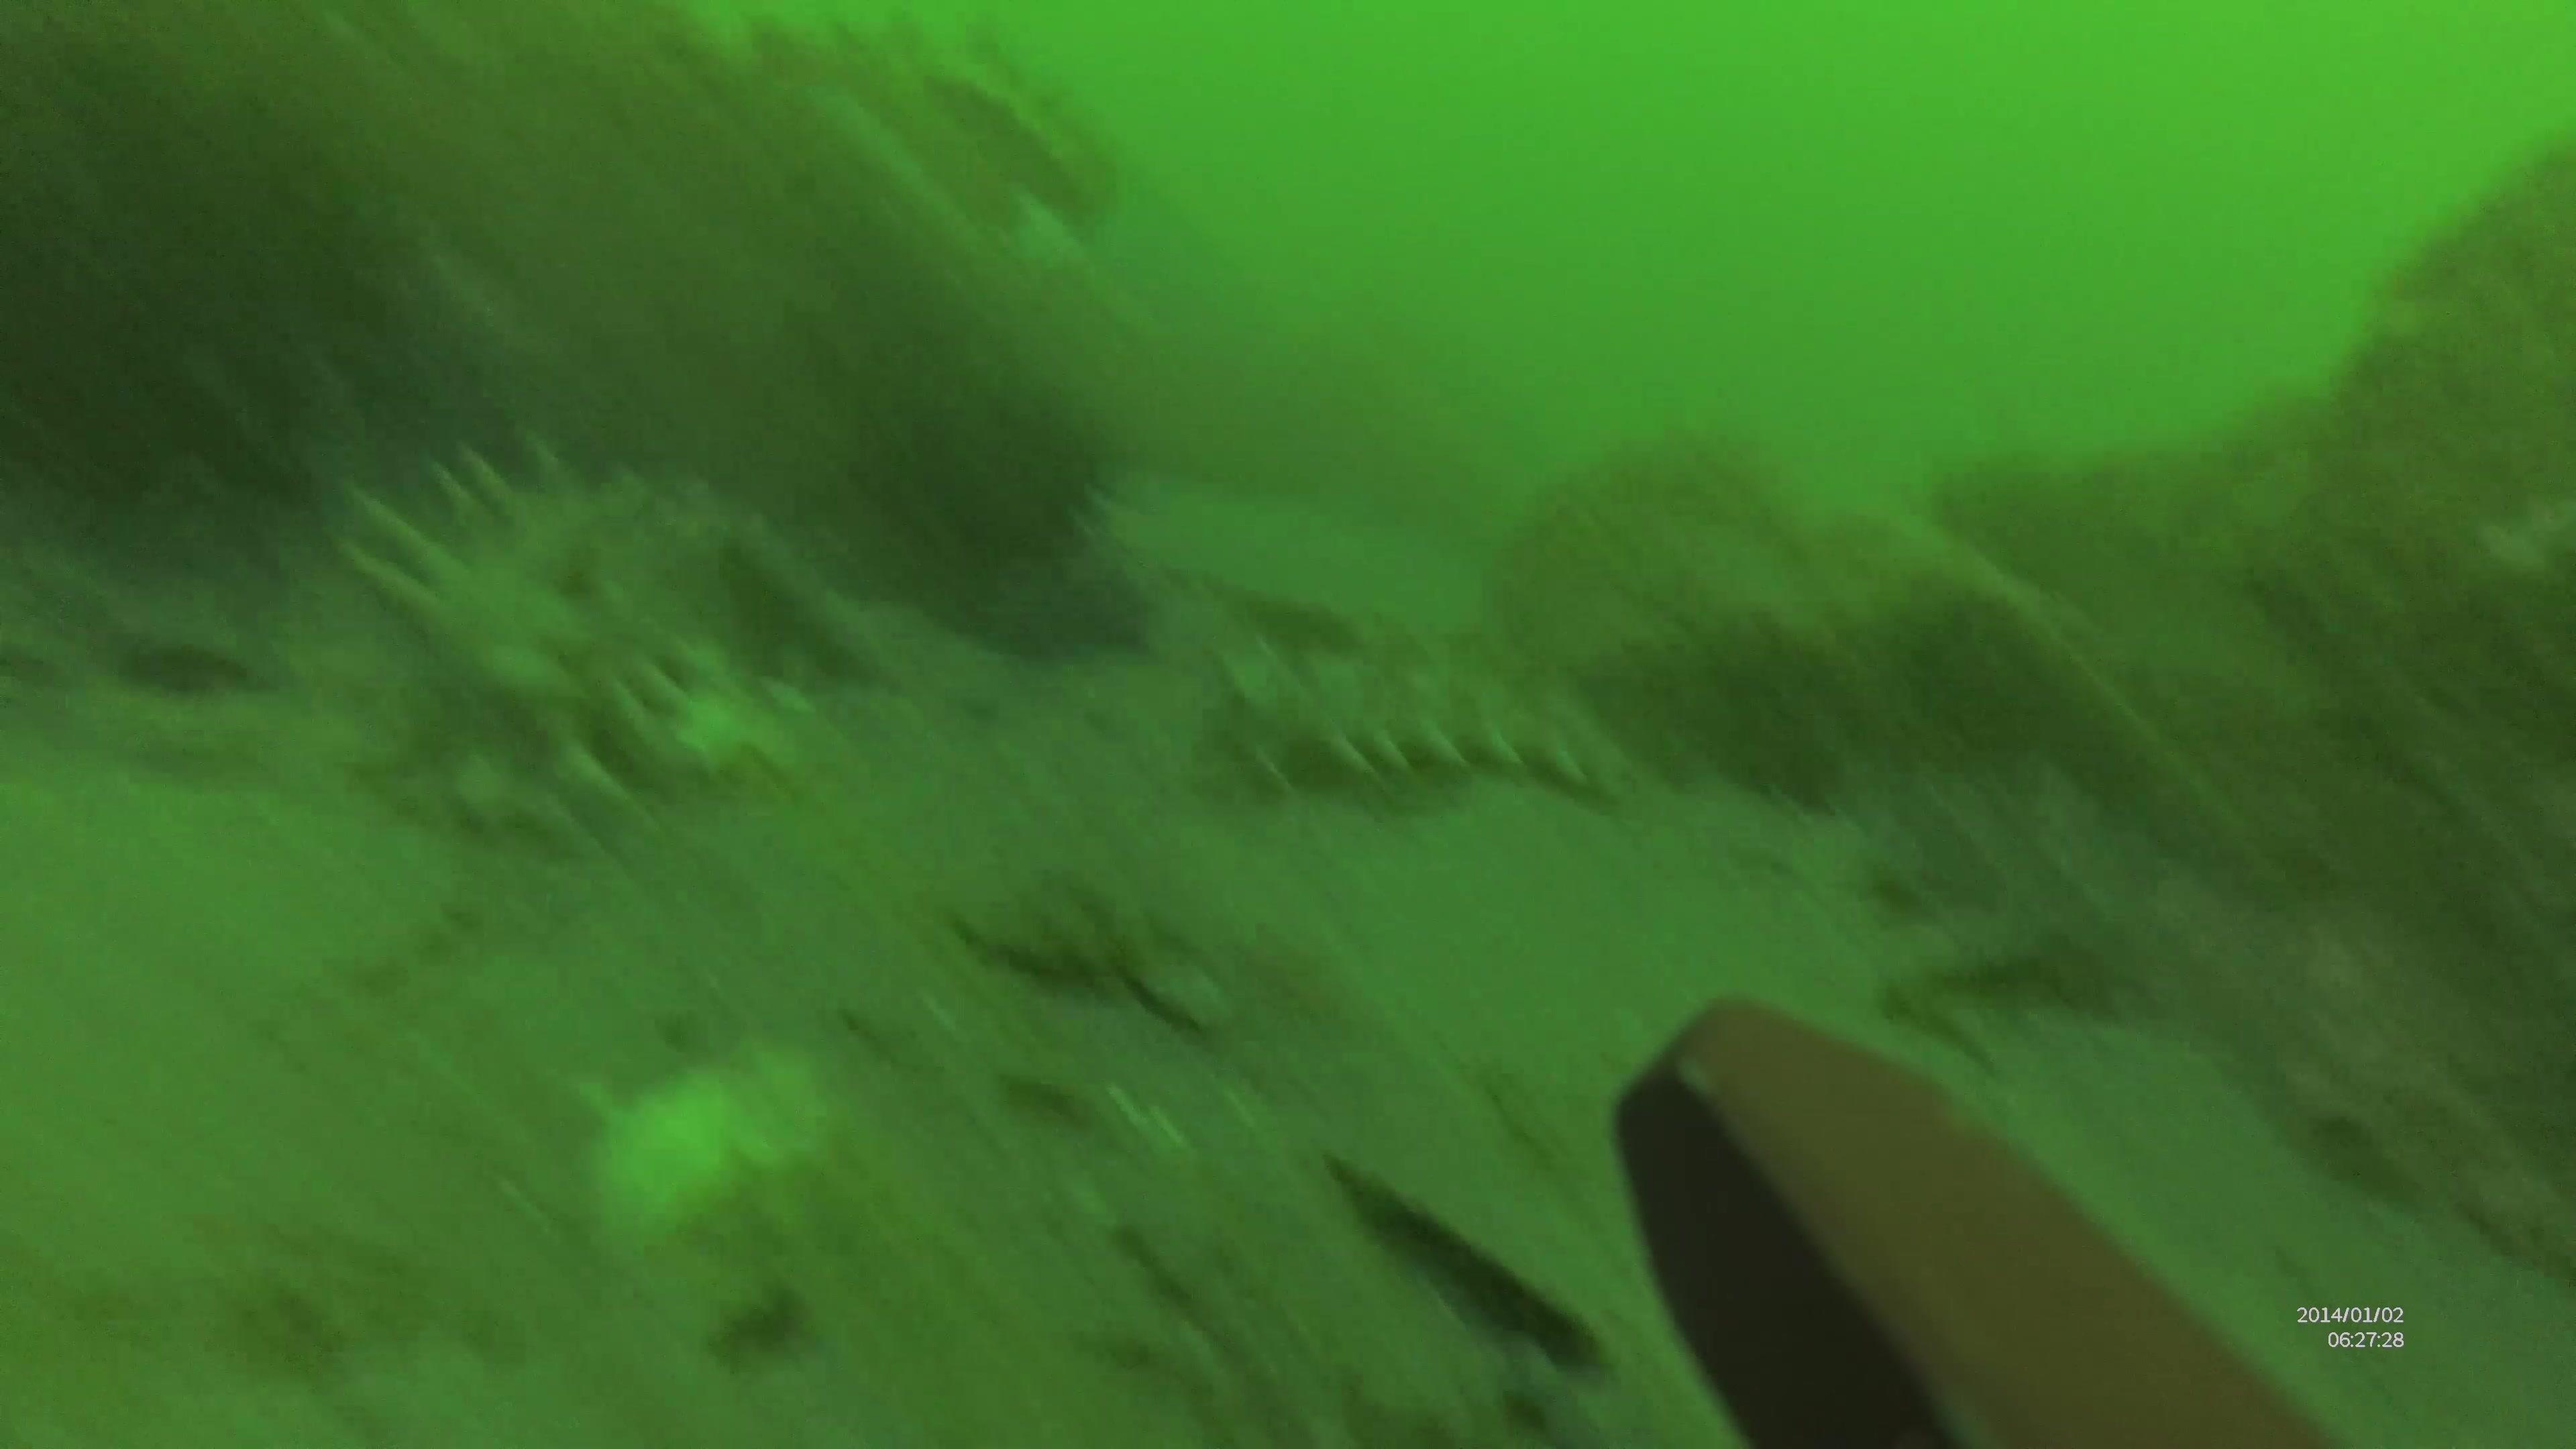echinus: (925, 395, 1127, 561)
holothurian: (333, 428, 890, 833), (1201, 626, 1638, 809)
